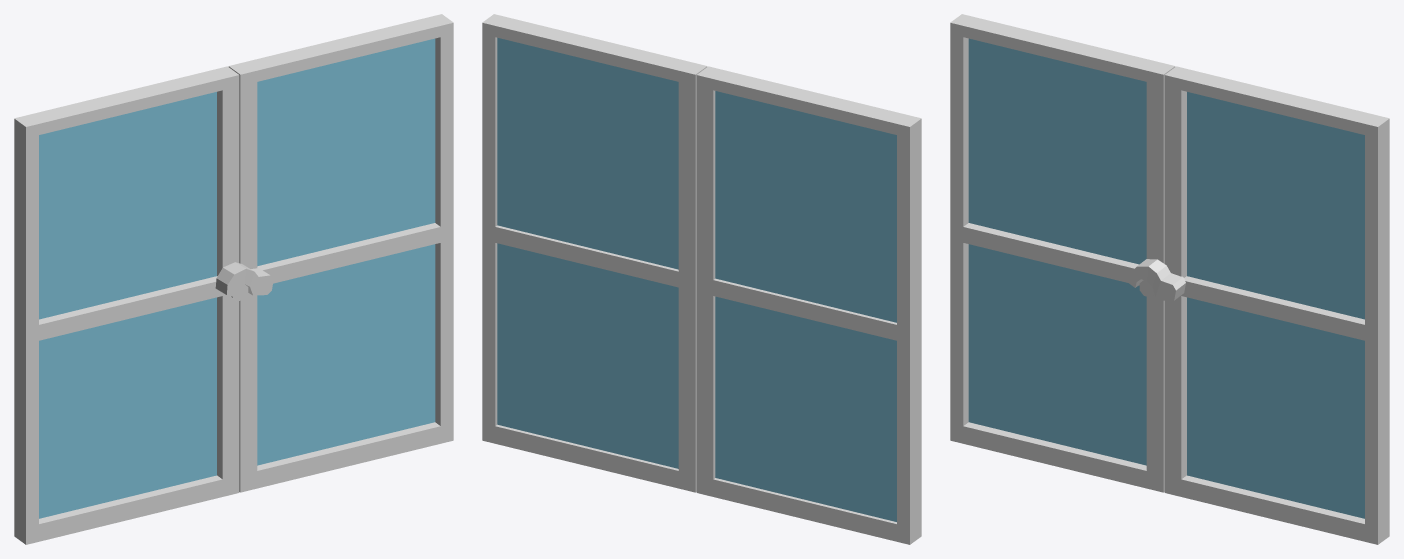
The model's file is Window_close.fbx.
3 views of the same model, side by side, from view 1: azimuth 30°, elevation 25°; view 2: azimuth 150°, elevation 25°; view 3: azimuth 330°, elevation 25° (orthographic).
Visible parts, largest first — view 1: WindoeLeft, WindowRight, Haka; view 2: WindoeLeft, WindowRight; view 3: WindowRight, WindoeLeft, Haka.
Boxes of the visible parts, x1=… form: WindoeLeft: x1=14, y1=66, x2=239, y2=544; WindowRight: x1=228, y1=14, x2=453, y2=492; Haka: x1=215, y1=262, x2=273, y2=296; WindoeLeft: x1=696, y1=66, x2=921, y2=544; WindowRight: x1=482, y1=14, x2=707, y2=492; WindowRight: x1=1164, y1=66, x2=1389, y2=544; WindoeLeft: x1=950, y1=14, x2=1175, y2=492; Haka: x1=1129, y1=259, x2=1185, y2=302.
Bounding box in the file's own units: 1.45 × 1.35 × 0.1339.
